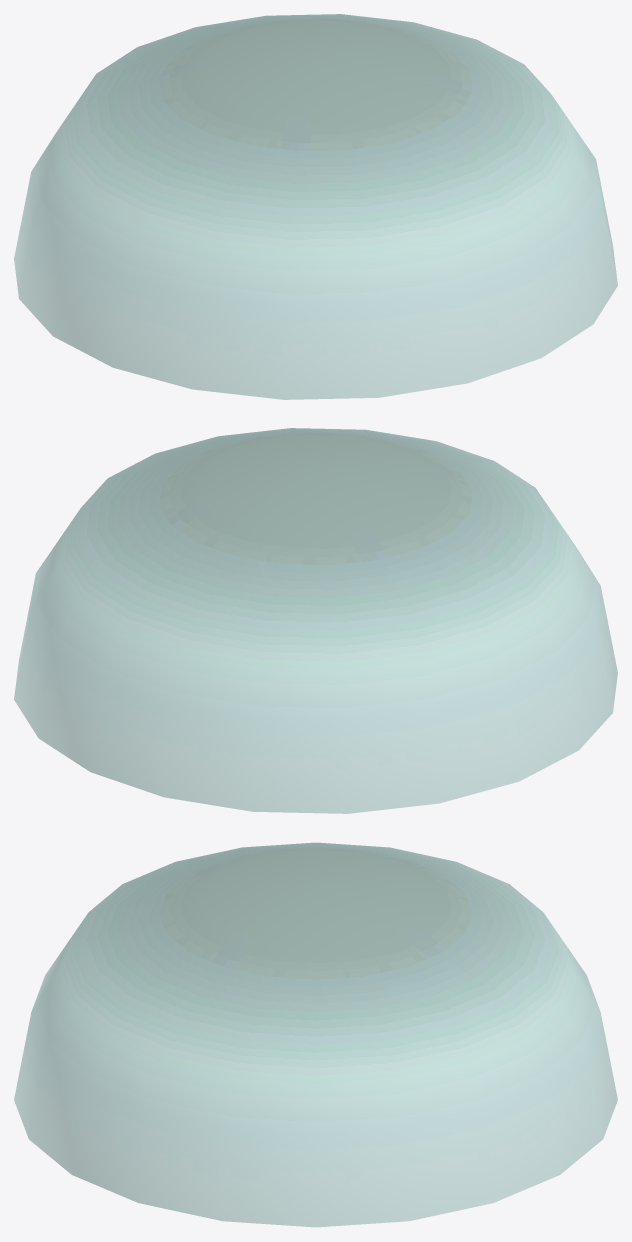
The model's file is stage-dese-sky.glb.
3 views of the same model, one above another, from view 1: azimuth 30°, elevation 25°; view 2: azimuth 150°, elevation 25°; view 3: azimuth 270°, elevation 25° (orthographic).
Visible parts, largest first — view 1: sky; view 2: sky; view 3: sky.
Part boxes in pixels (x1,y1,x2,y2): sky: [14, 14, 617, 399]; sky: [14, 428, 617, 813]; sky: [14, 842, 617, 1227].
Size of the model in its own units: 2963 by 1147 by 2963.
3 materials, 3 textured.
